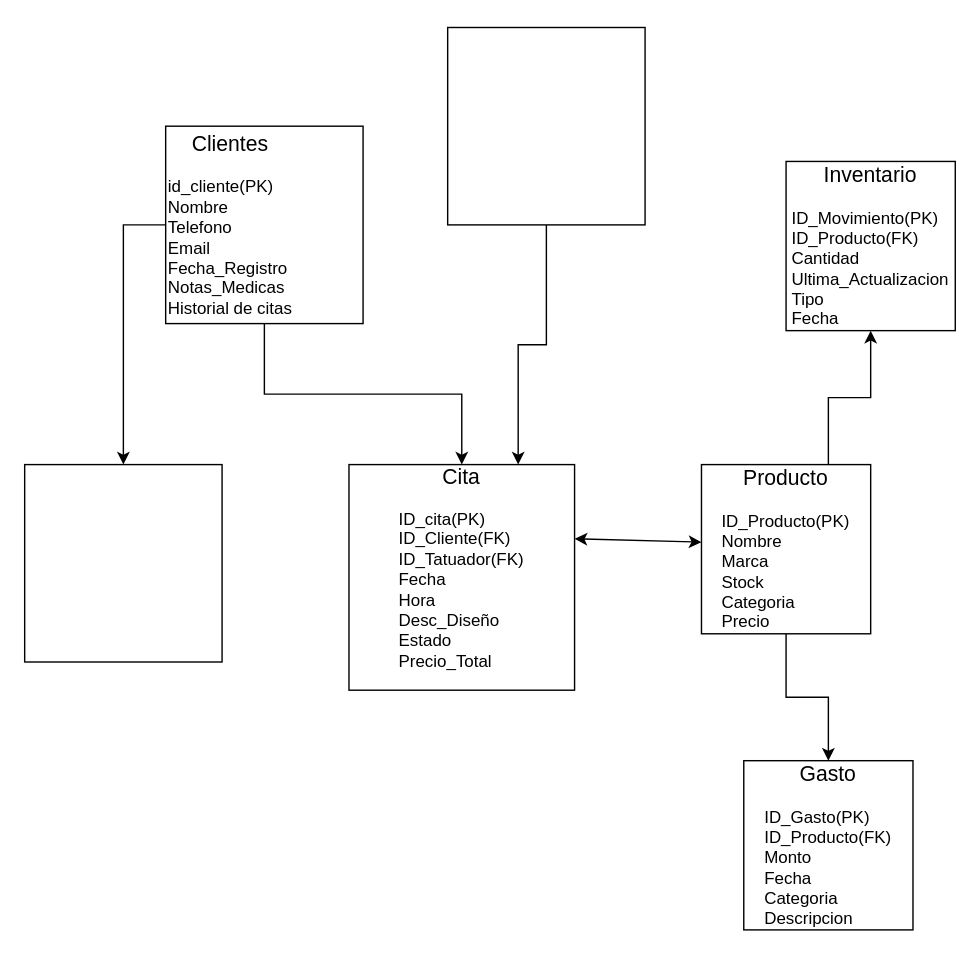
This 980x955 diagram has some shape labels left out. Here are the shapes that lost their labels. From the top down, the box of each, then its label:
(446, 26, 645, 225): Tatuador Id_tatuador(PK) Nombre Telefono Email Especialidad Activo
(23, 463, 222, 662): Ingreso ID_Ingreso(PK) ID_Cita(FK) Monto Fecha Metodo_Pago Descripcion
